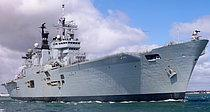MIL_Ship: (2, 18, 208, 100)
